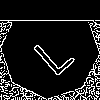L: (25, 25, 76, 78)
